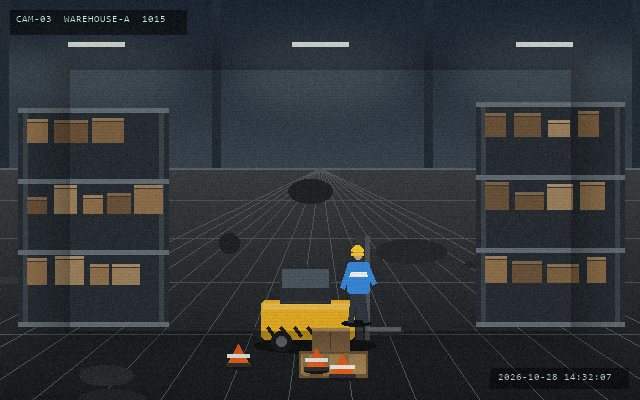cone: (328, 352, 356, 380), (225, 342, 251, 369), (303, 346, 329, 373)
forklift: (257, 234, 402, 353)
pallet: (297, 349, 369, 379)
person: (340, 243, 376, 325)
shelf: (476, 102, 624, 322), (18, 108, 168, 322)
